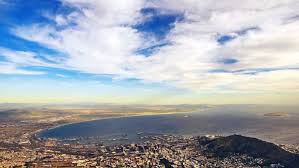ground: (6, 108, 292, 168)
sky: (4, 1, 298, 104)
